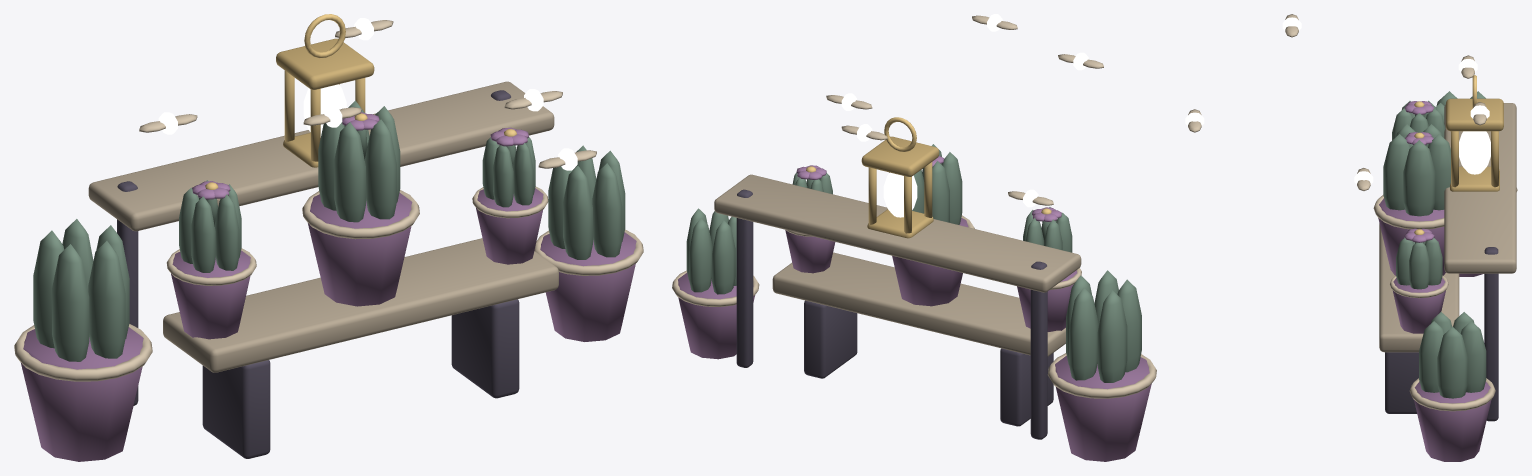
Rendered from discovery_moon-garden.glb.
3 renders of one model, left to right at view 1: azimuth 30°, elevation 25°; view 2: azimuth 150°, elevation 25°; view 3: azimuth 270°, elevation 25°, orthographic. The views are drawn at different scales.
Parts seen in each view (by area): view 1: discovery_moon-garden_part_0, discovery_moon-garden_part_1, discovery_moon-garden_part_3, discovery_moon-garden_part_5, discovery_moon-garden_part_4, discovery_moon-garden_part_2, discovery_moon-garden_part_6; view 2: discovery_moon-garden_part_0, discovery_moon-garden_part_1; view 3: discovery_moon-garden_part_0, discovery_moon-garden_part_1.
Boxes of the visible parts, x1,y1,x2,y2 form: discovery_moon-garden_part_0: (14,14,643,461); discovery_moon-garden_part_1: (303,84,346,137); discovery_moon-garden_part_3: (538,148,596,170); discovery_moon-garden_part_5: (139,112,197,134); discovery_moon-garden_part_4: (303,105,361,127); discovery_moon-garden_part_2: (504,89,562,111); discovery_moon-garden_part_6: (335,18,393,40); discovery_moon-garden_part_0: (672,117,1156,461); discovery_moon-garden_part_1: (883,172,917,217); discovery_moon-garden_part_0: (1373,75,1517,461); discovery_moon-garden_part_1: (1459,131,1490,174).
Bounding box in the file's own units: 4.87 × 3.02 × 2.99.
